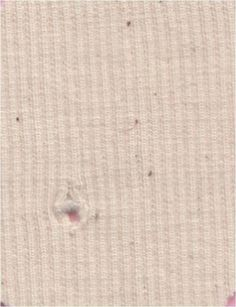Hole: (45, 180, 108, 243)
